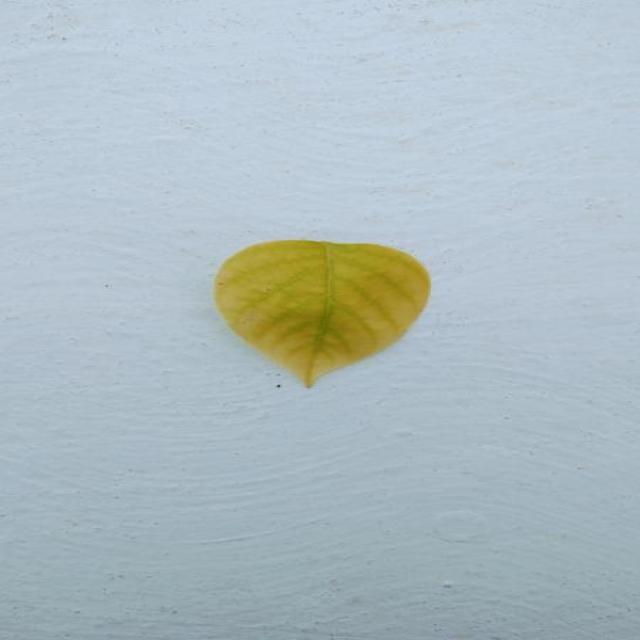honge: (215, 240, 430, 387)
leaf rust: (228, 265, 423, 356)
